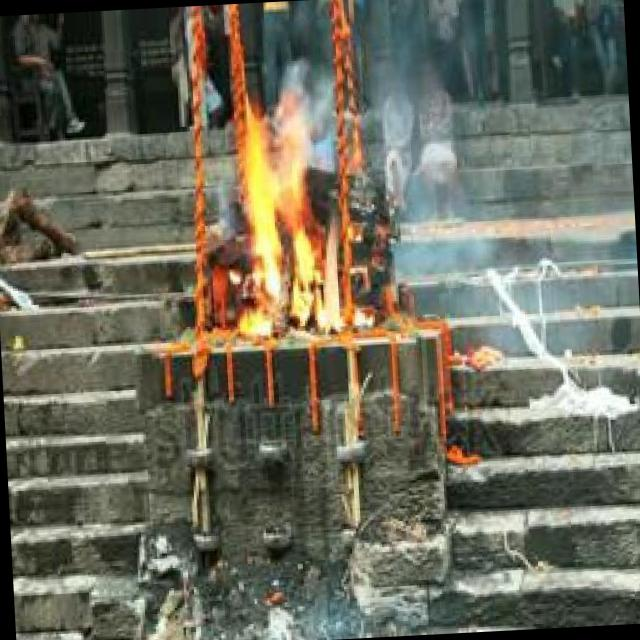Fire: (235, 95, 352, 340)
